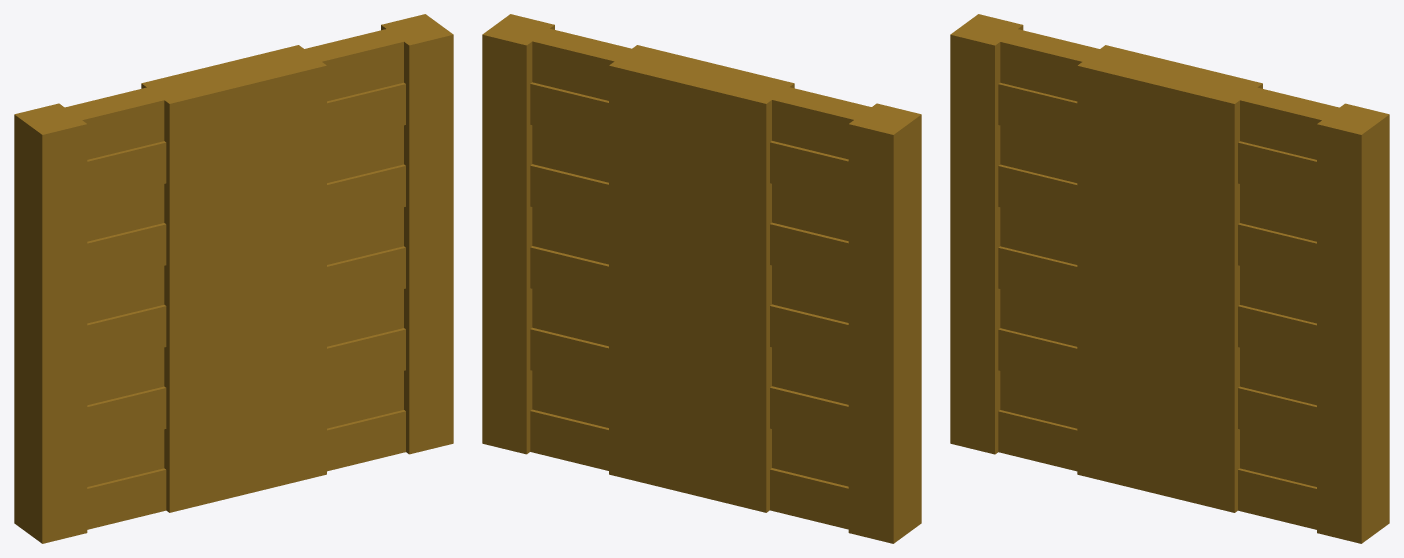
Rendered from GIMM370 Gates Yellow.fbx.
The picture shows the model from 3 angles, left to right: view 1: azimuth 30°, elevation 25°; view 2: azimuth 150°, elevation 25°; view 3: azimuth 330°, elevation 25°; orthographic projection.
Parts seen in each view (by area): view 1: Cube.003; view 2: Cube.003; view 3: Cube.003.
Part boxes in pixels (x1,y1,x2,y2): Cube.003: (14,14,453,543); Cube.003: (482,14,921,543); Cube.003: (950,14,1389,543).
Size of the model in its own units: 1332 by 1265 by 158.
